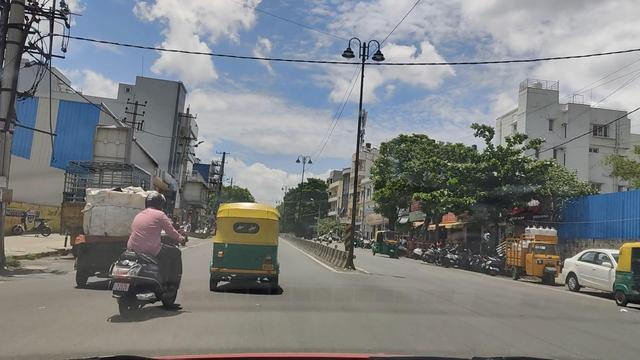LMV: (119, 196, 184, 314), (215, 204, 286, 298), (83, 186, 129, 279)
